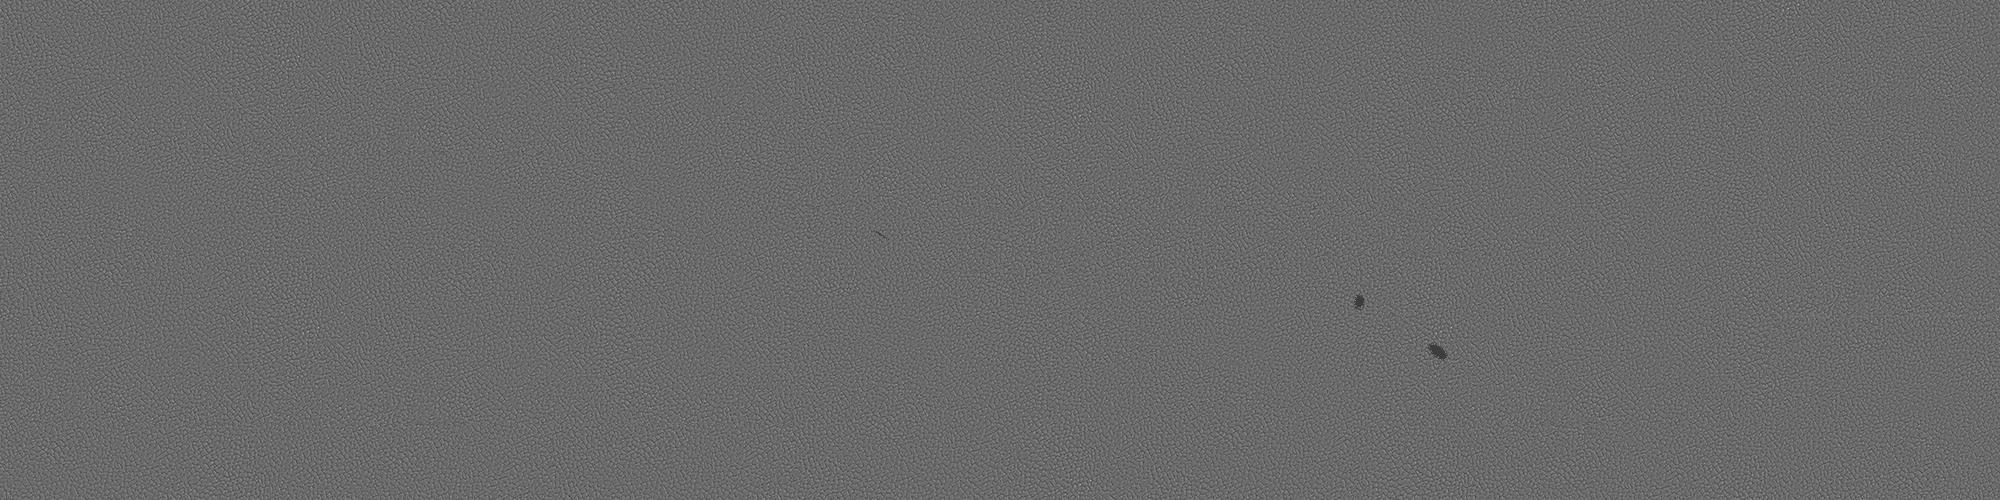Decomposed: (1426, 342, 1455, 364), (869, 224, 895, 245), (1351, 291, 1375, 312)
